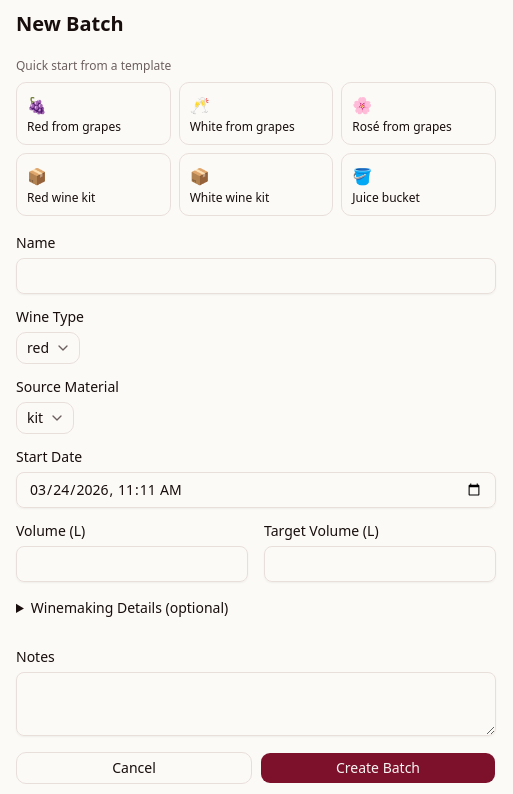
Test: BatchNew page › pre-fills form when a template is clicked
What coordinates should you click on to do the following:
click the text "Red wine kit"
I would click on:
 (61, 198)
Its box is x1=27 y1=189 x2=95 y2=206.
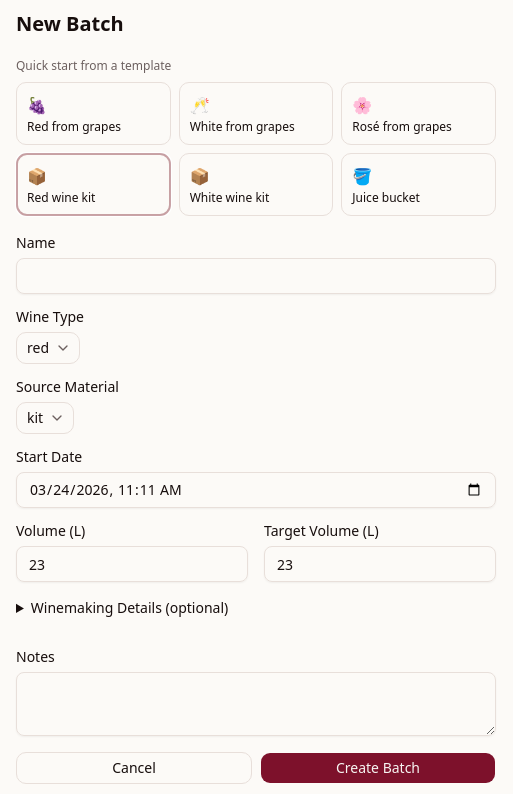
Check: the number field labelled "Volume (L)" holds "23", box x1=16 y1=546 x2=248 y2=582
